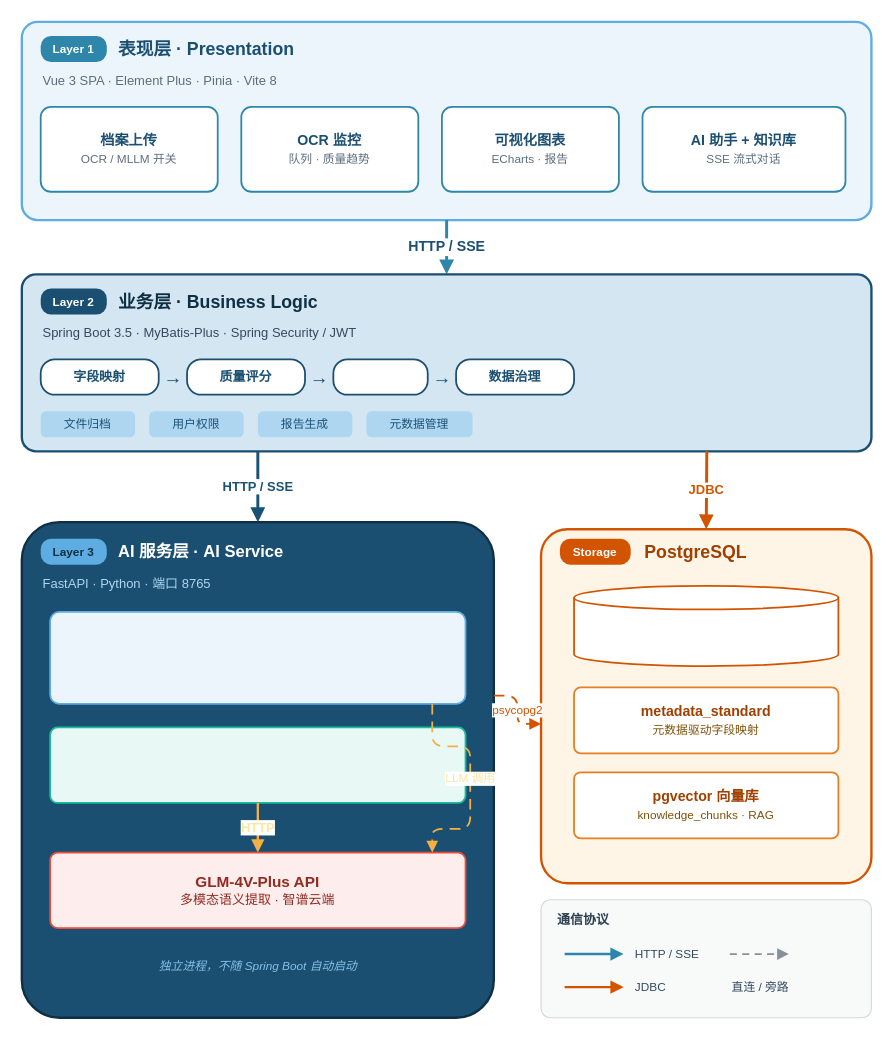
Image size: 892x1038. Some labels were removed from this diagram. The box of each missing label's shape, as (x1, y1, x2, y2) in pixels:
LangChain Agent 19 个数据库查询工具 web_search · web_fetch · RAG: (49, 610, 466, 704)
PaddleOCR / PPStructureV3 版面分析 · 表格识别 · 字段提取: (49, 726, 466, 803)
事实表 + 维度表 student / admission / graduation: (573, 584, 839, 666)
脱敏: (332, 358, 428, 395)
